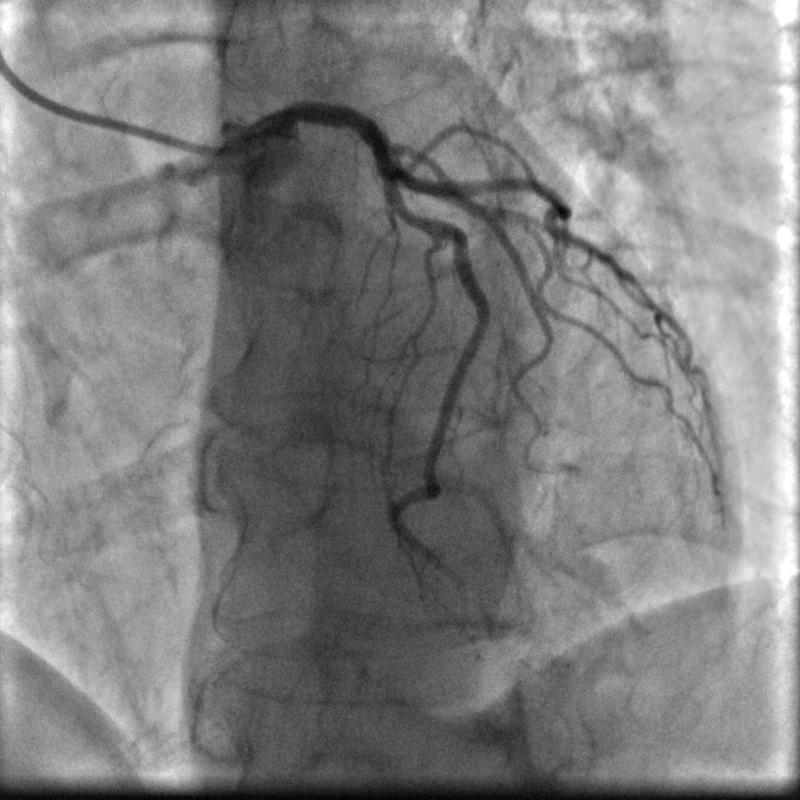Stenosis: (392, 200, 427, 223)
